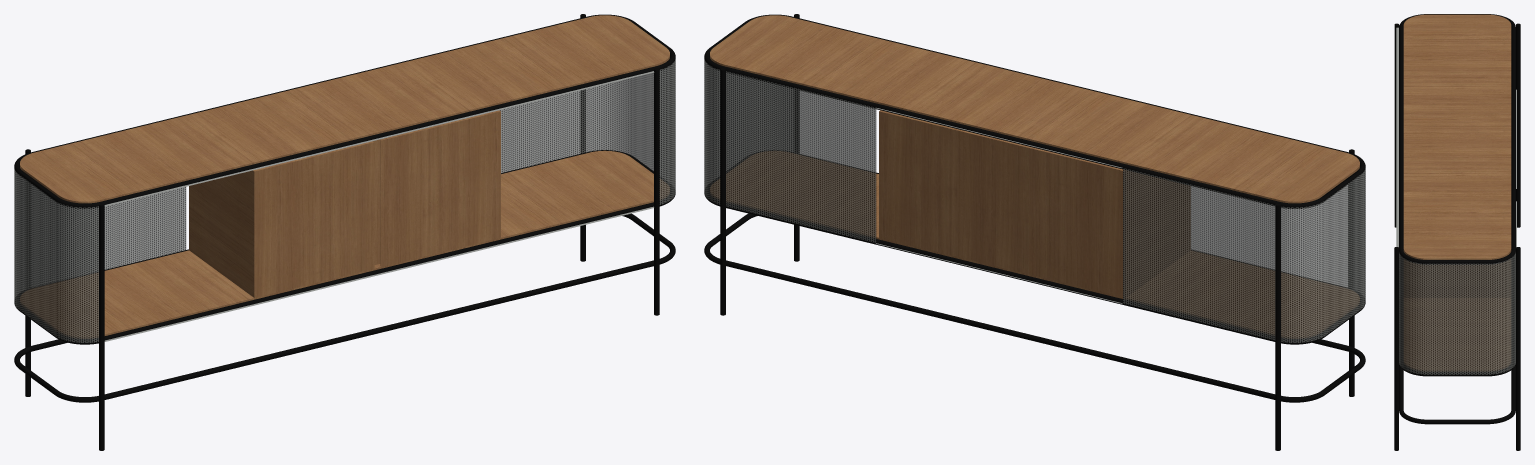
The model's file is sideboard_buffet_dessau_america_agave_grupo_oca.glb.
The picture shows the model from 3 angles, left to right: view 1: azimuth 30°, elevation 25°; view 2: azimuth 150°, elevation 25°; view 3: azimuth 270°, elevation 25°; orthographic projection. The views are drawn at different scales.
Parts seen in each view (by area): view 1: Object_8, Object_17, Object_12, Object_16; view 2: Object_8, Object_17, Object_12, Object_16; view 3: Object_8, Object_17, Object_12, Object_16.
Boxes of the visible parts, bbox=[...] form: Object_8: bbox=[20, 15, 669, 338]; Object_17: bbox=[14, 59, 675, 342]; Object_12: bbox=[14, 14, 675, 450]; Object_16: bbox=[104, 71, 654, 341]; Object_8: bbox=[710, 15, 1359, 338]; Object_17: bbox=[704, 59, 1365, 342]; Object_12: bbox=[704, 14, 1365, 450]; Object_16: bbox=[876, 107, 1122, 303]; Object_8: bbox=[1403, 14, 1511, 371]; Object_17: bbox=[1399, 252, 1515, 374]; Object_12: bbox=[1394, 14, 1520, 450]; Object_16: bbox=[1396, 27, 1516, 247].
Bounding box in the file's own units: 2 × 0.7623 × 0.4299.
Materials: 4 (3 with a texture image).
